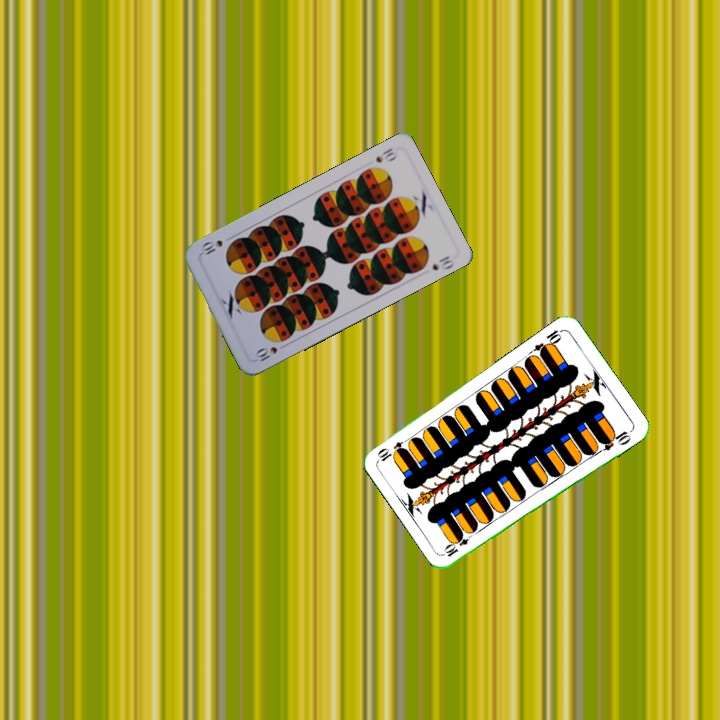E10: (529, 326, 565, 358), (441, 529, 477, 559)
S10: (251, 340, 290, 366), (371, 144, 399, 165)
